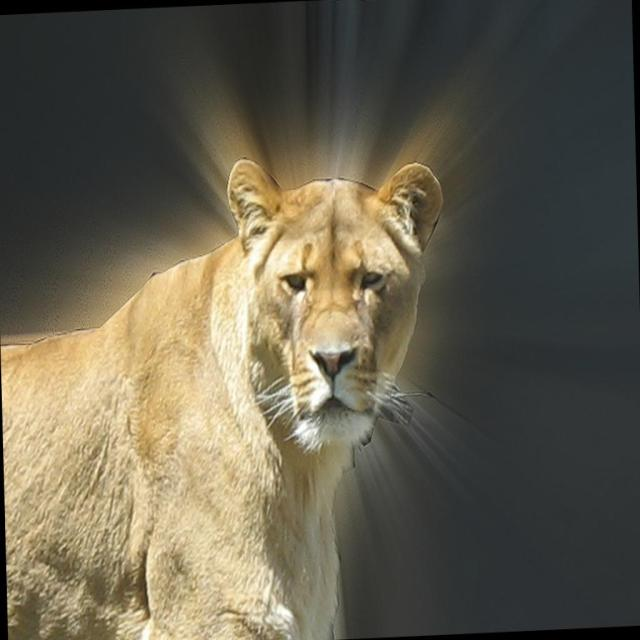Lion: (0, 145, 456, 639)
